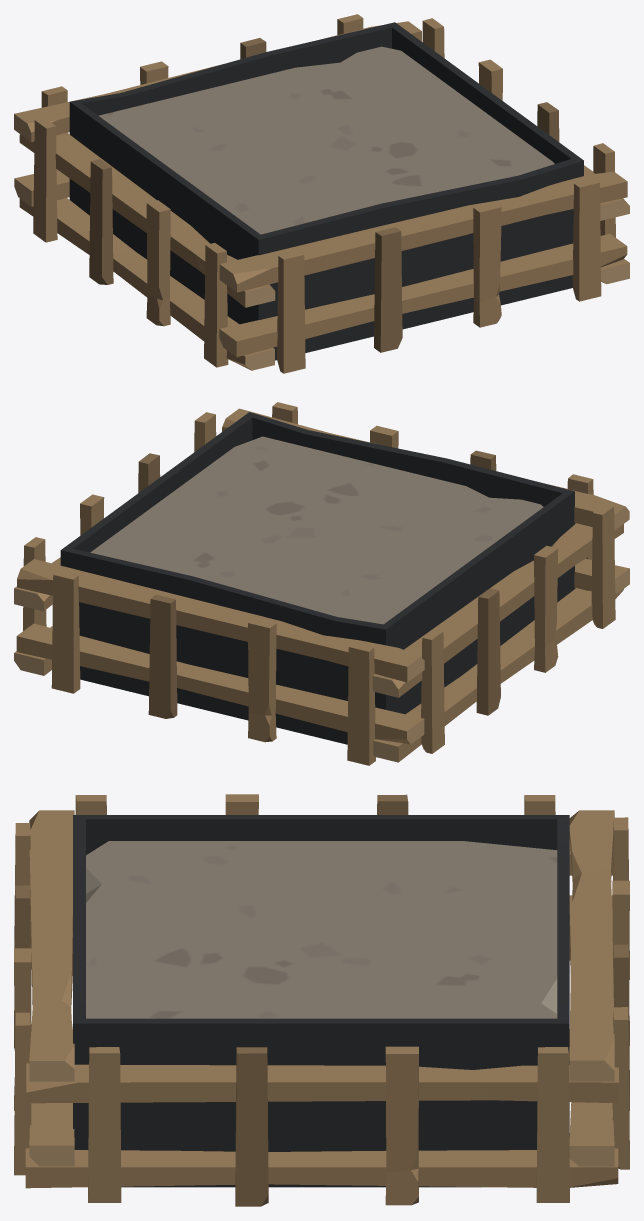
Rendered from SM_Bld_ConcreteFrame_Pillar_Short_01.fbx.
3 views of the same model, one above another, from view 1: azimuth 30°, elevation 25°; view 2: azimuth 150°, elevation 25°; view 3: azimuth 270°, elevation 25° (orthographic). The views are drawn at different scales.
Parts seen in each view (by area): view 1: SM_Bld_ConcreteFrame_Pillar_Short_01; view 2: SM_Bld_ConcreteFrame_Pillar_Short_01; view 3: SM_Bld_ConcreteFrame_Pillar_Short_01.
Part boxes in pixels (bbox=[...]): SM_Bld_ConcreteFrame_Pillar_Short_01: bbox=[14, 14, 629, 373]; SM_Bld_ConcreteFrame_Pillar_Short_01: bbox=[14, 402, 629, 765]; SM_Bld_ConcreteFrame_Pillar_Short_01: bbox=[14, 794, 629, 1206].
Bounding box in the file's own units: 261 × 77.63 × 261.
